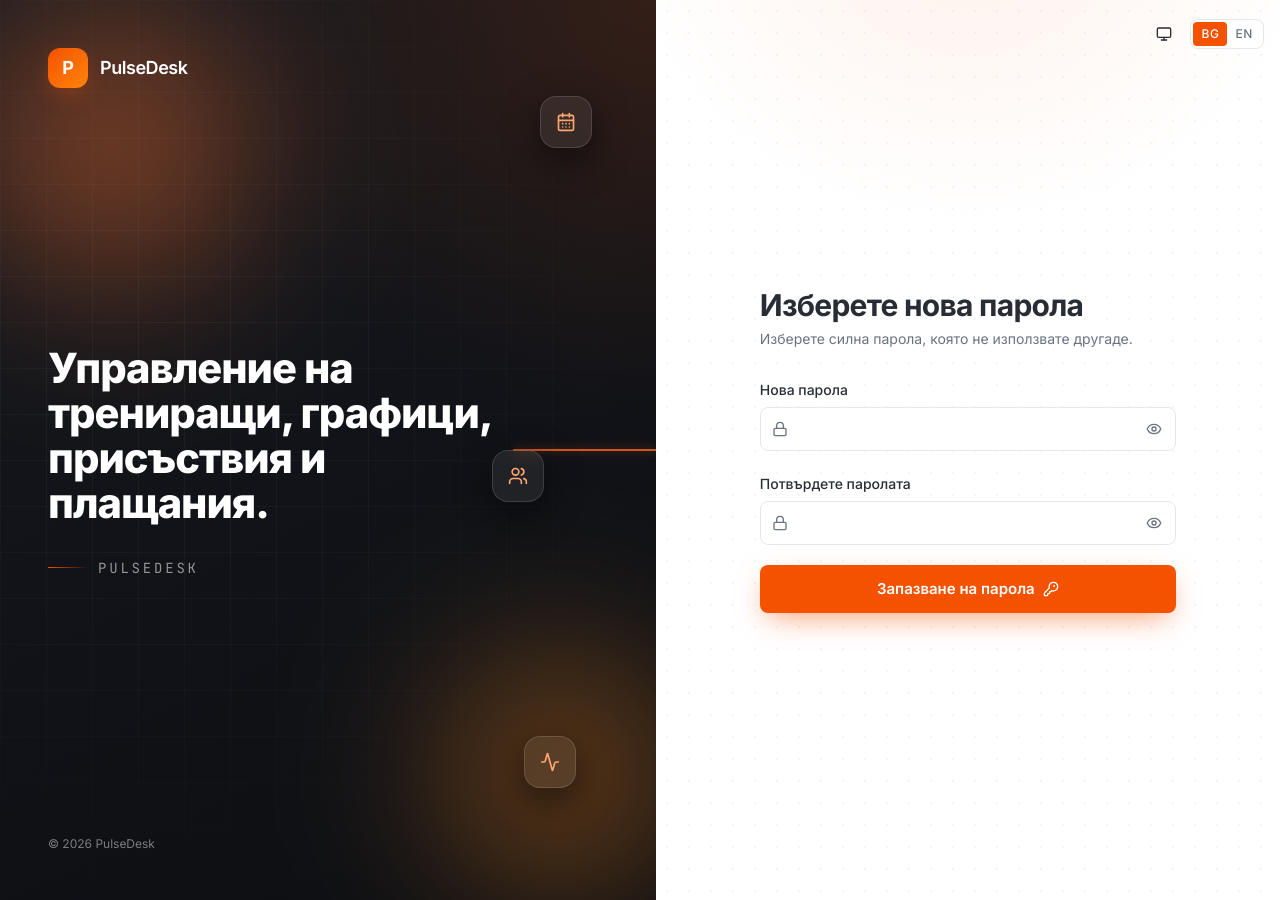
Test: ResetPasswordPage › shows an invalid-link message when the API returns 400
Type "BrandNew123!" into the password field labelled "Нова парола" at {"x": 968, "y": 429}, box top-left (760, 407), bottom-right (1176, 451)
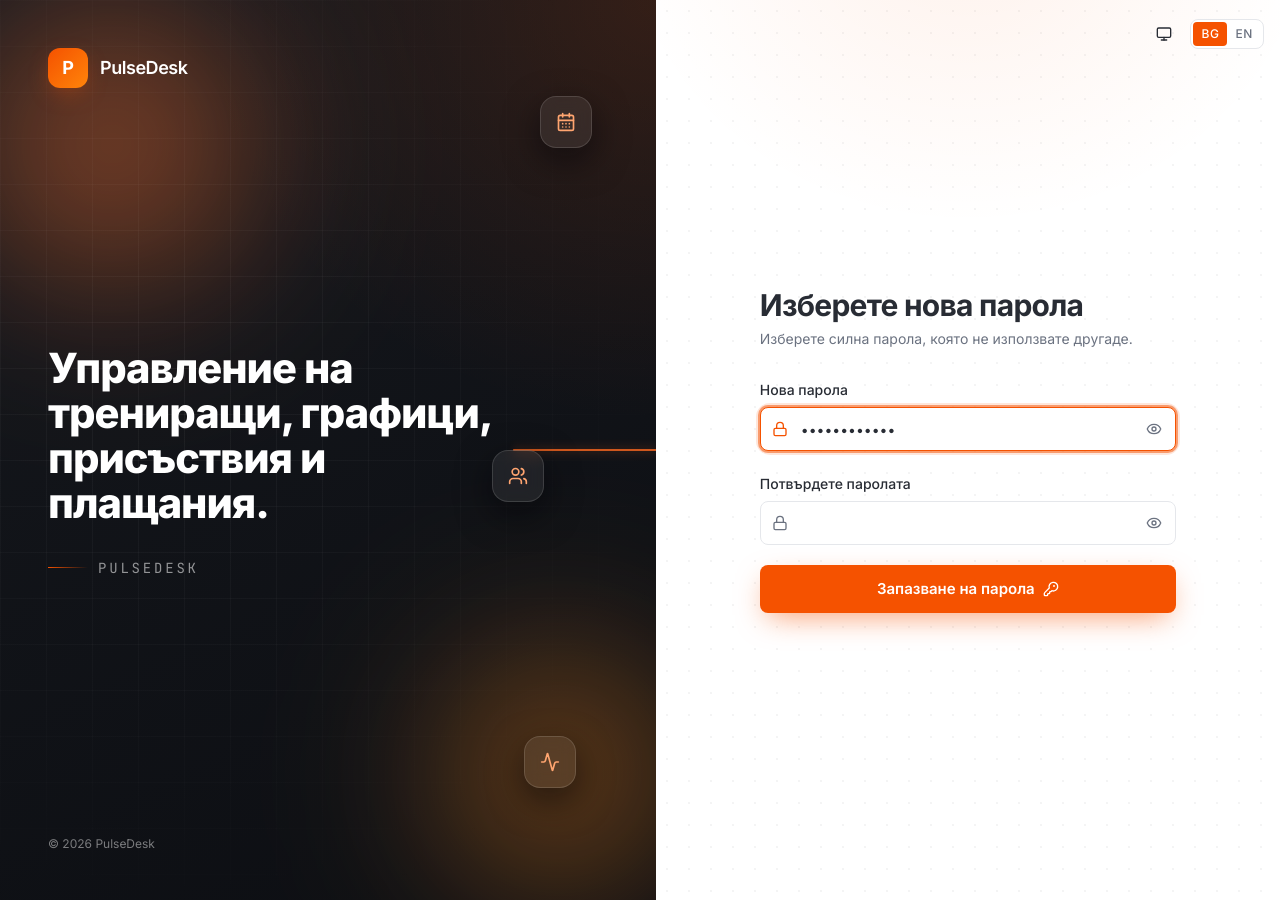
Type "BrandNew123!" into the password field labelled "Потвърдете паролата" at {"x": 968, "y": 523}, box top-left (760, 501), bottom-right (1176, 545)
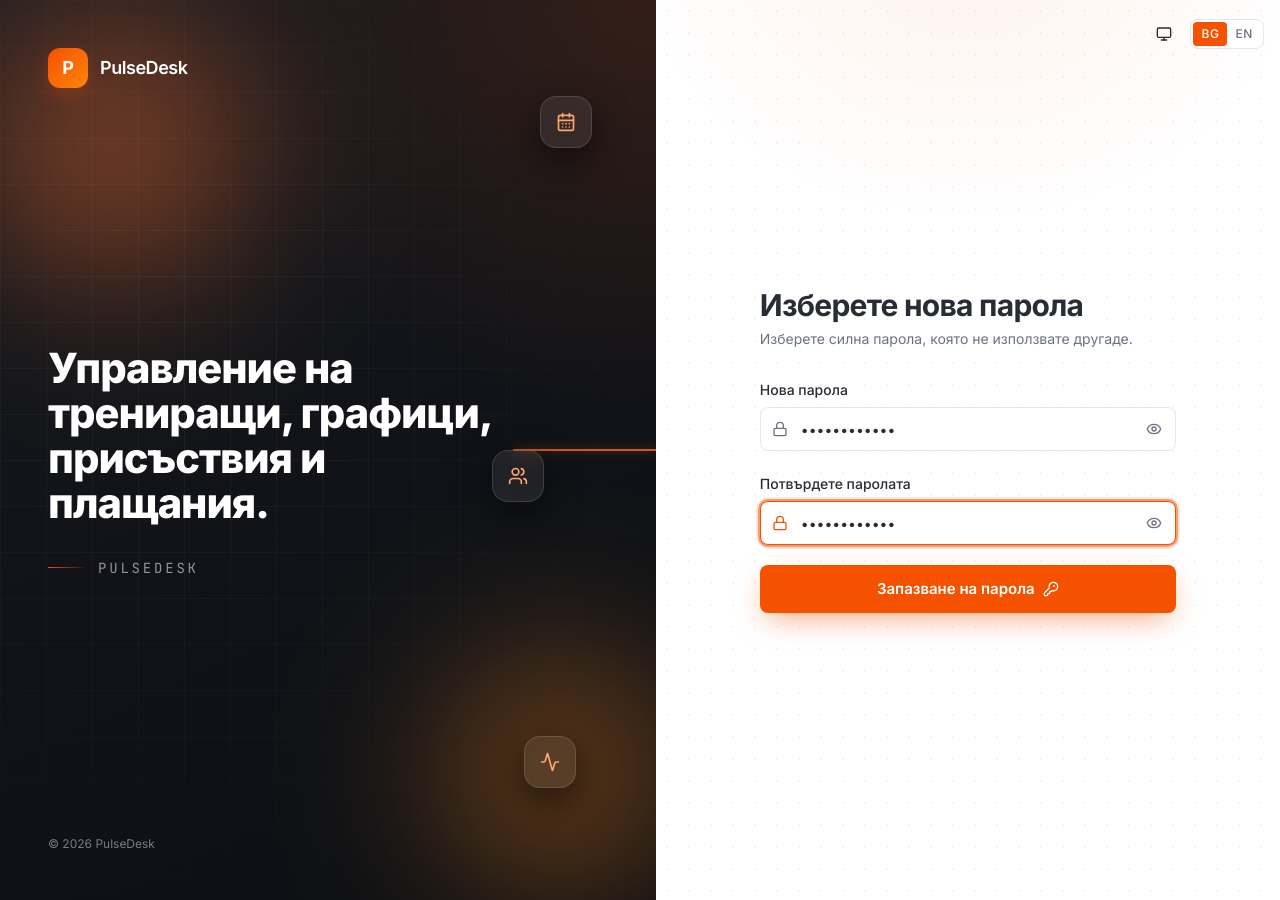
Click the button "Запазване на парола" at {"x": 968, "y": 589}, box top-left (760, 565), bottom-right (1176, 613)
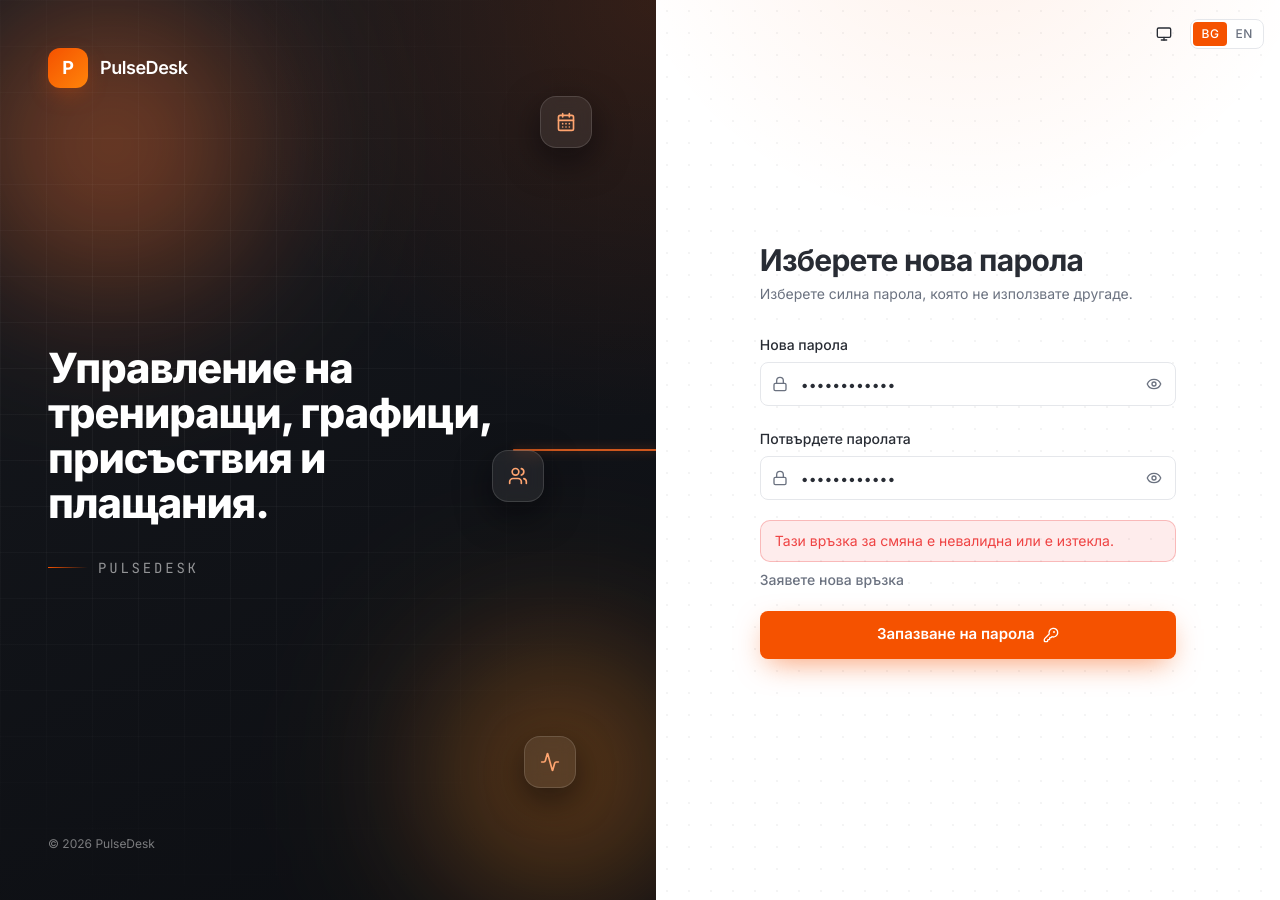
Now the message reads "Тази връзка за смяна е невалидна или е изтекла. Заявете нова връзка", box top-left (775, 532), bottom-right (1114, 548)
